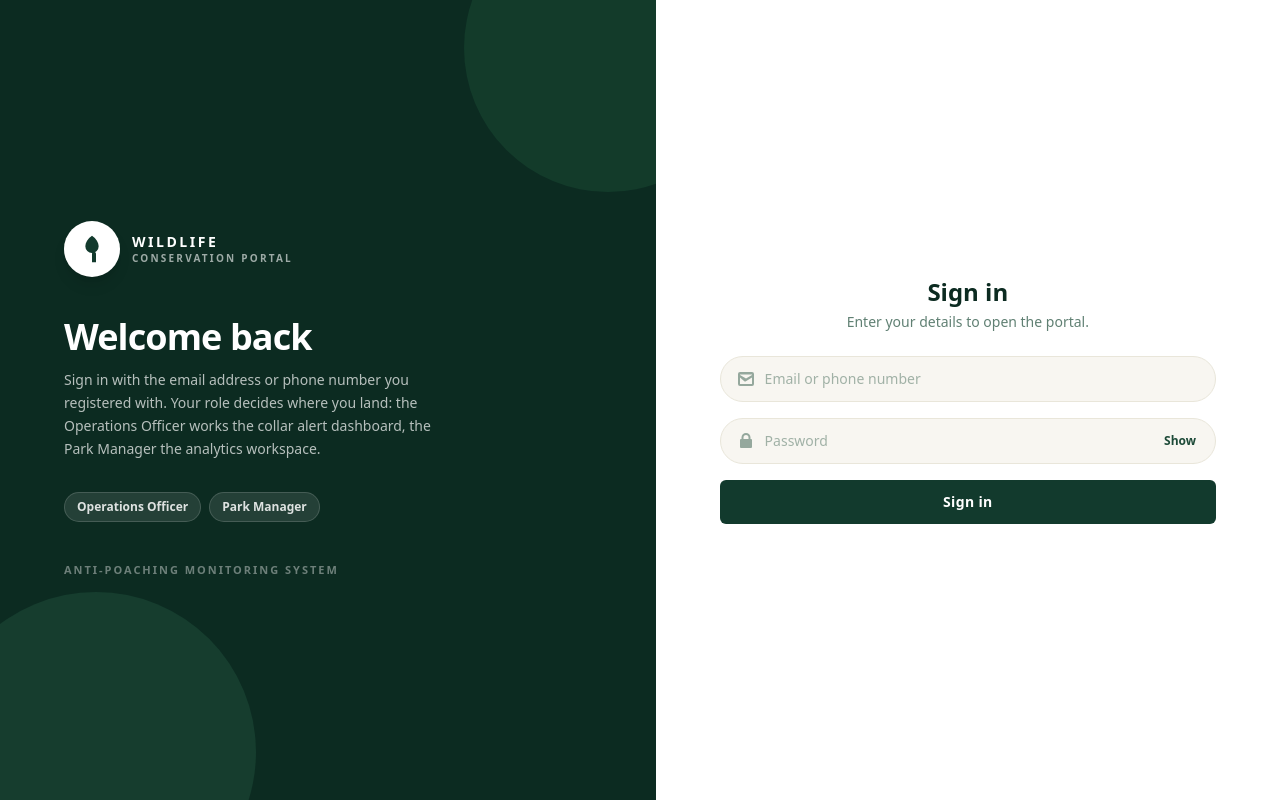
Test: portal sign-in › sends villager and ranger accounts to the mobile app
Type "ranger@wildlife.demo" into the field labelled "Email or phone number" at (968, 379), box [720,356,1216,402]
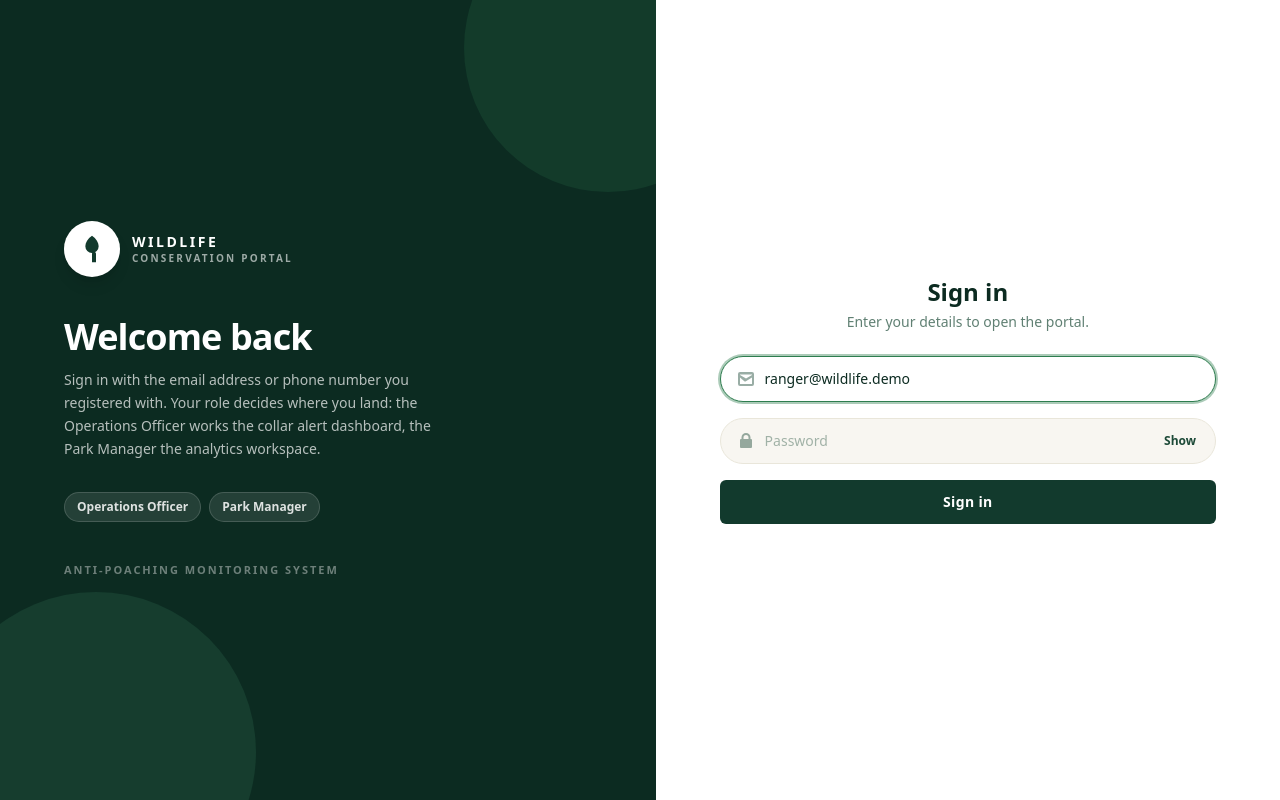
Type "password123" into the password field labelled "Password" at (968, 441), box [720,418,1216,464]
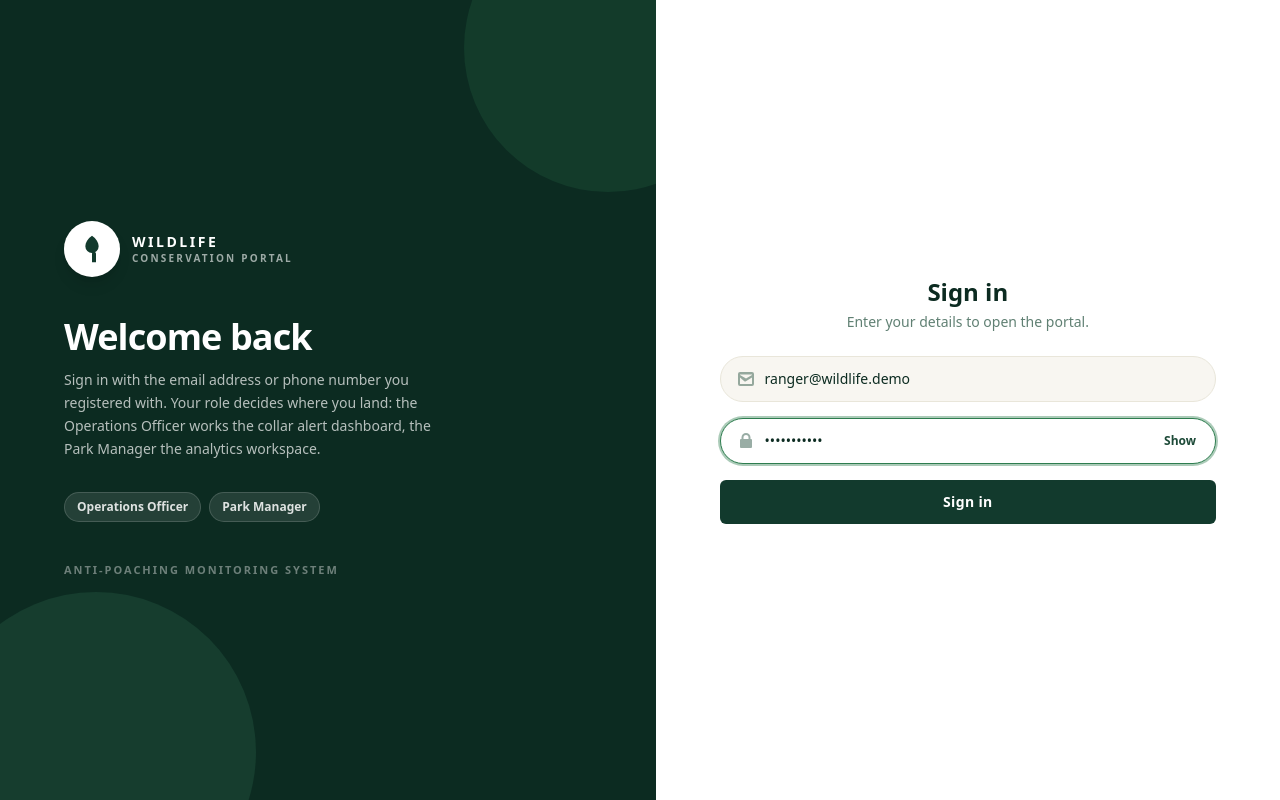
Click the button "Sign in" at (968, 502), box [720,480,1216,524]
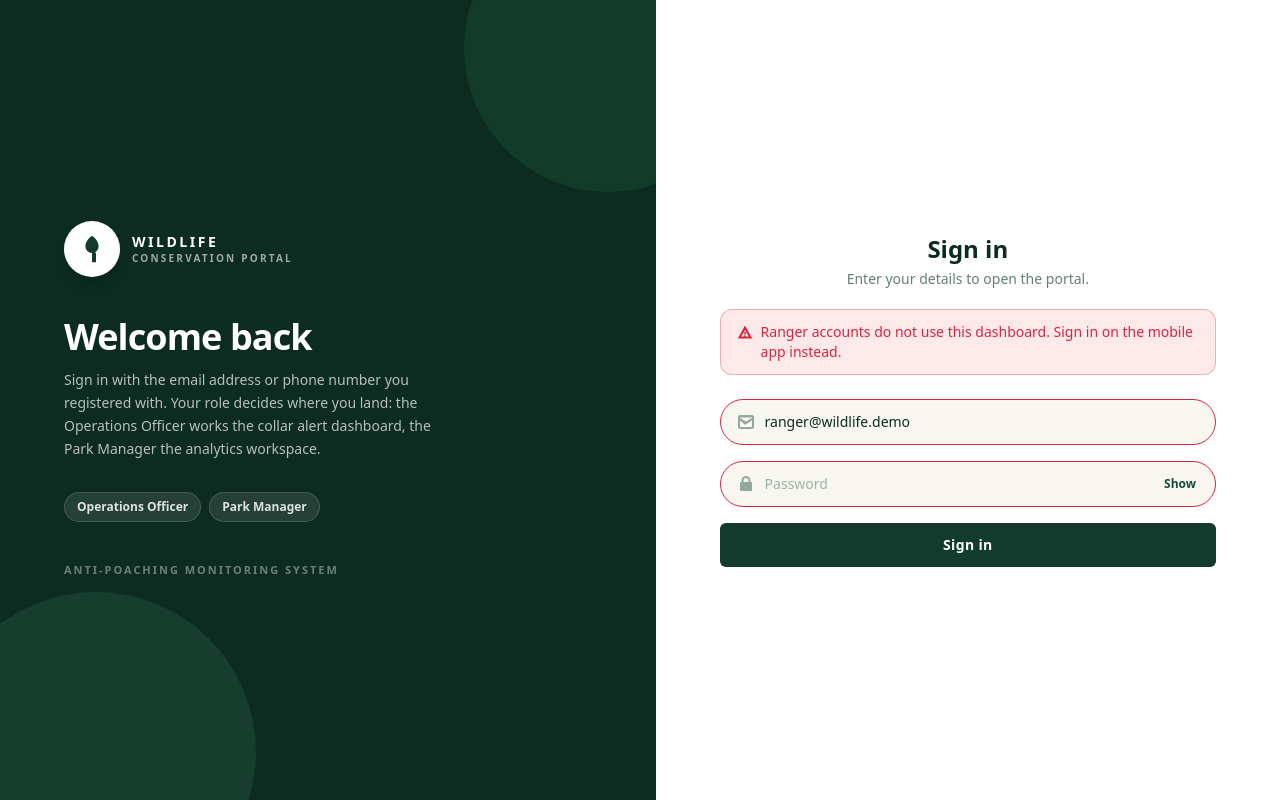
Check: the message shows "mobile app", box [761,322,1193,361]
